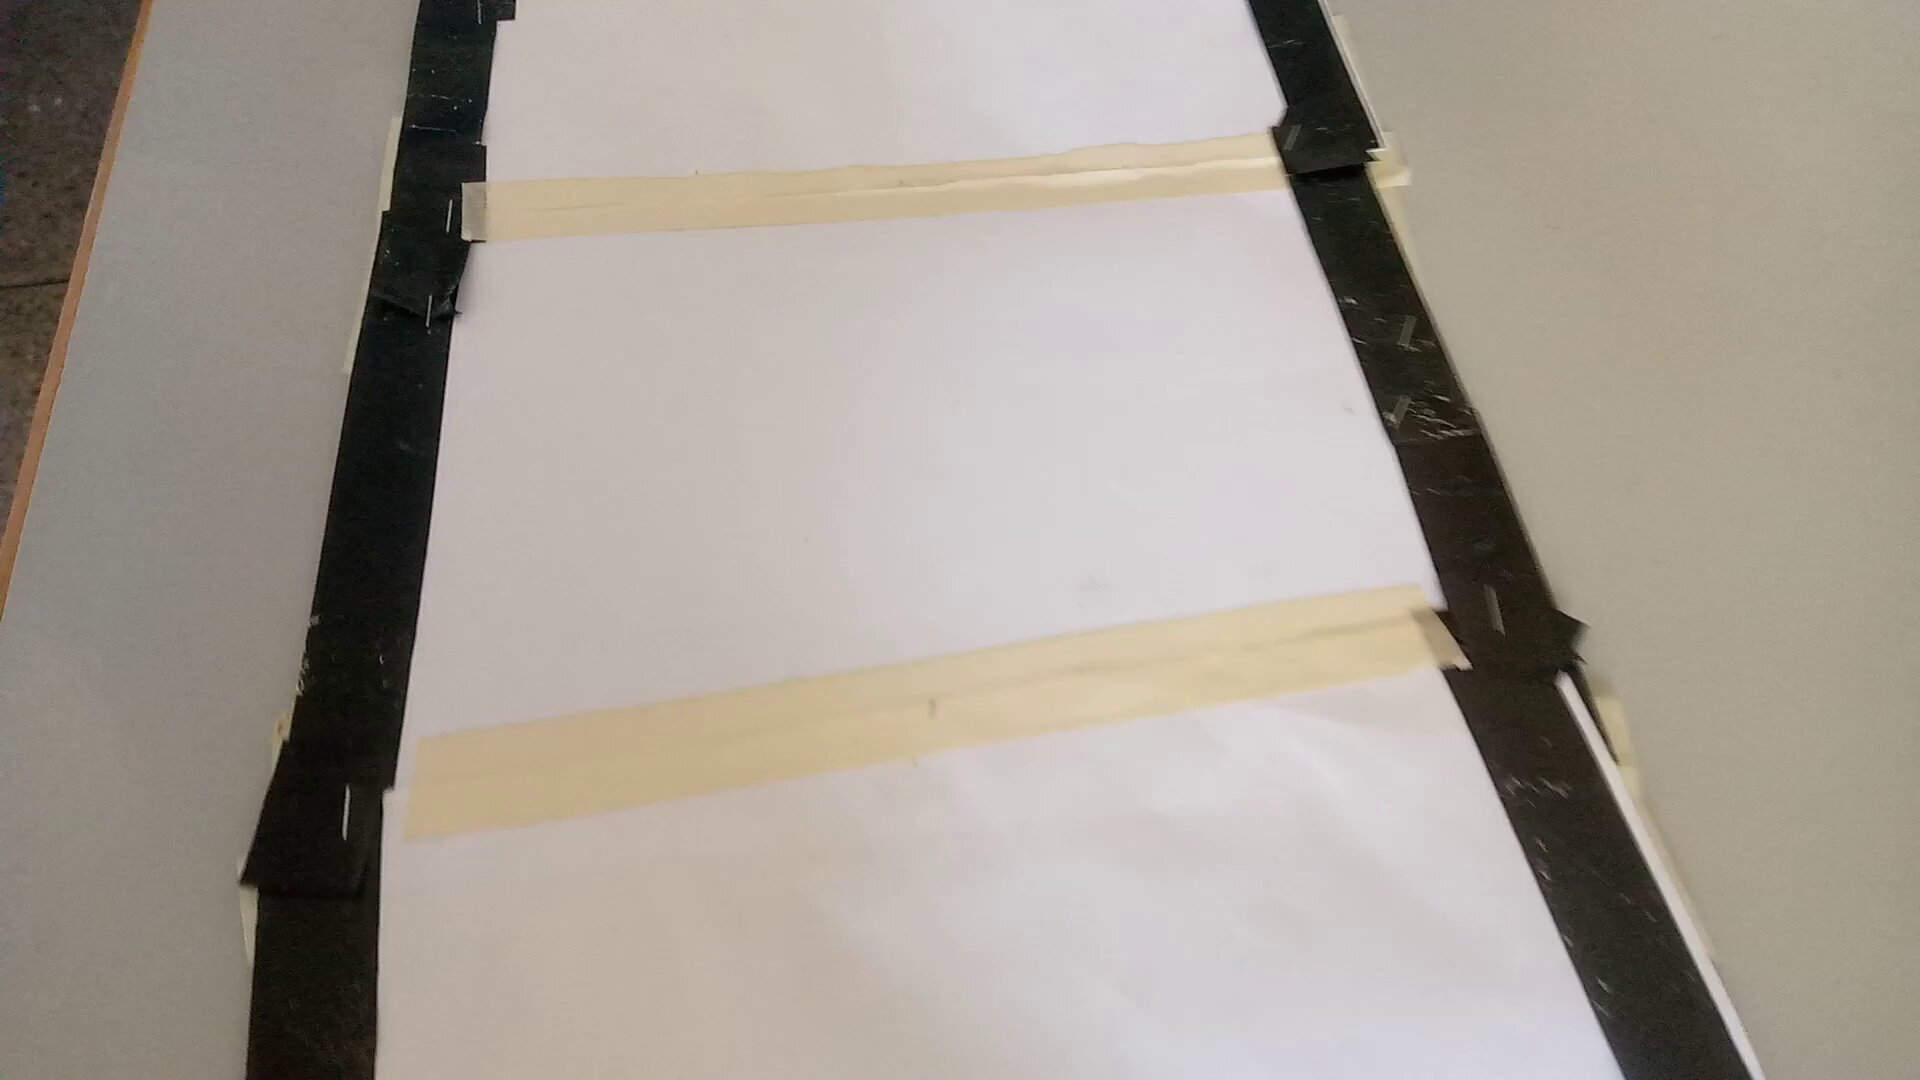right: (193, 680, 1731, 1006), (334, 105, 1511, 377)
